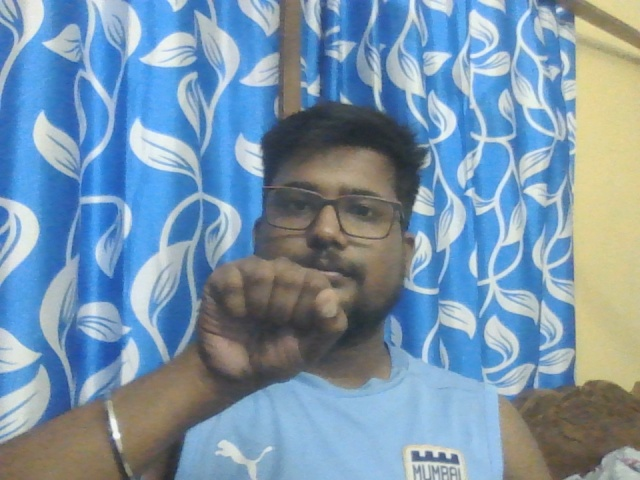A: (198, 255, 350, 384)
